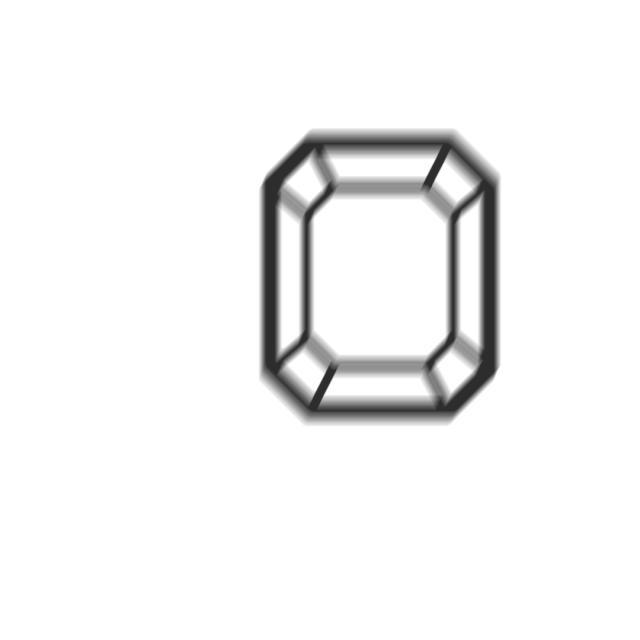emerald: (247, 121, 517, 438)
